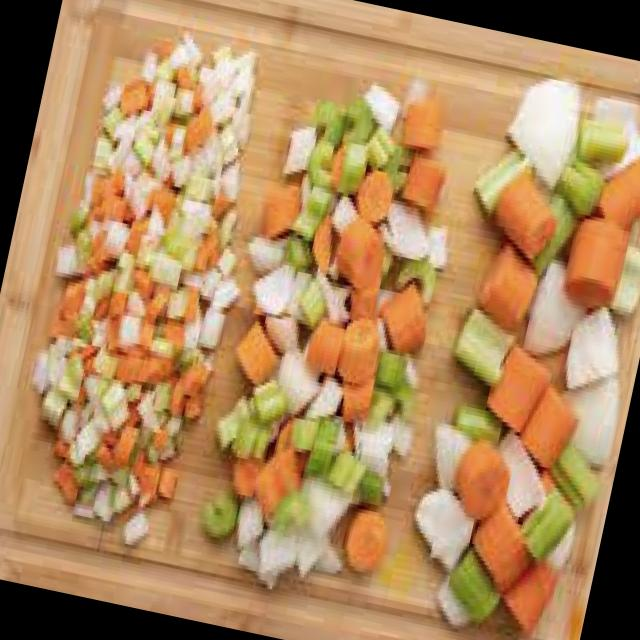Carrot: (452, 495, 544, 610), (464, 171, 566, 273), (566, 208, 634, 330), (442, 436, 526, 526), (518, 370, 584, 482), (479, 238, 552, 334), (586, 150, 640, 263), (336, 494, 398, 584), (284, 314, 352, 396), (484, 338, 550, 422), (380, 269, 438, 356), (332, 305, 388, 386), (248, 177, 302, 257), (393, 154, 453, 225), (407, 80, 456, 154), (332, 218, 386, 283)
